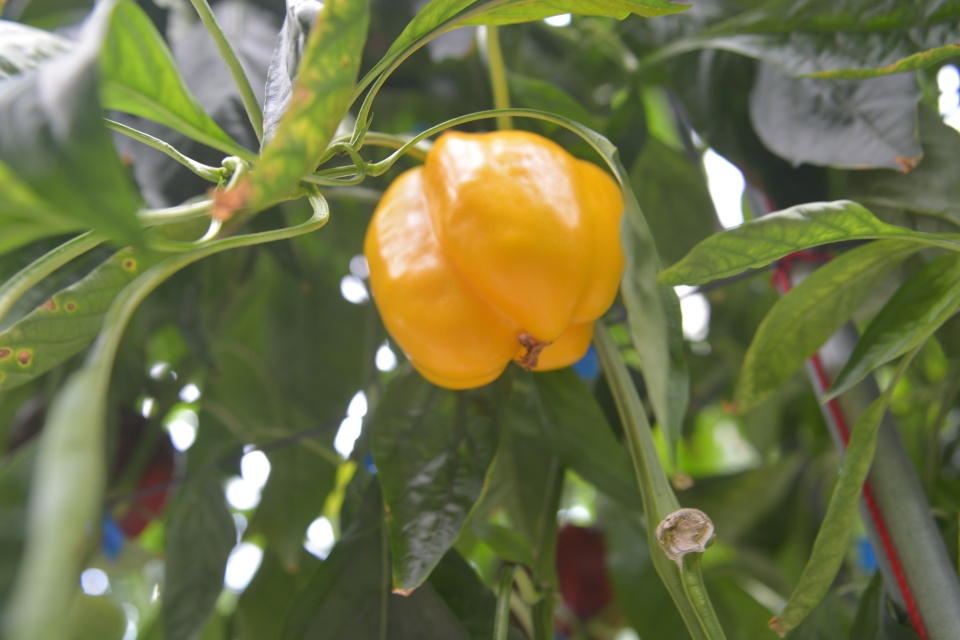fruit: (360, 128, 626, 392), (8, 396, 176, 542), (496, 524, 614, 640)
